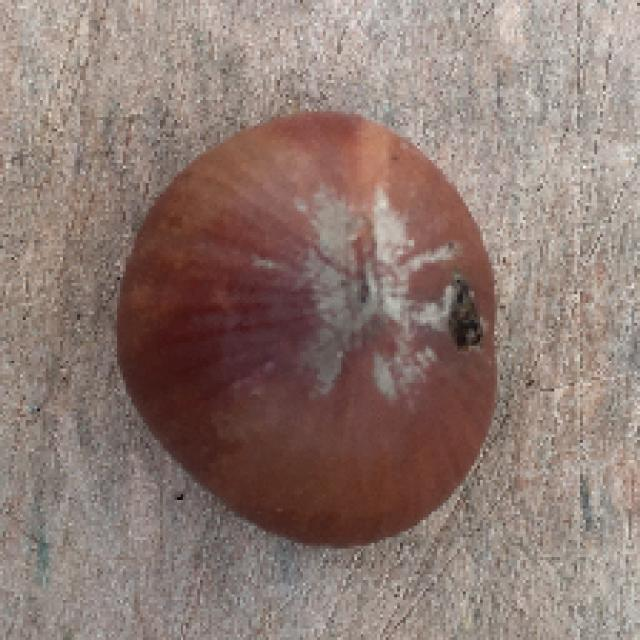DamagedHazelnut: (112, 113, 496, 545)
